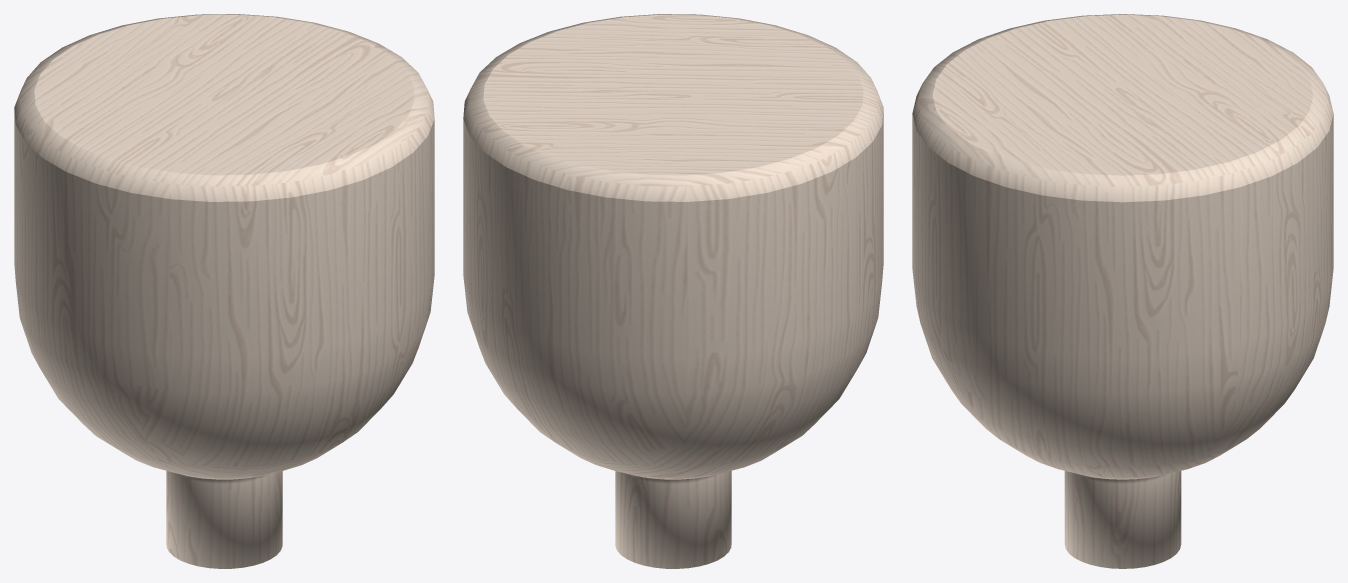
File: blockhead 2.fbx
3 renders of one model, left to right at view 1: azimuth 30°, elevation 25°; view 2: azimuth 150°, elevation 25°; view 3: azimuth 270°, elevation 25°, orthographic.
Parts seen in each view (by area): view 1: Head; view 2: Head; view 3: Head.
Boxes of the visible parts, x1,y1,x2,y2 form: Head: (14,14,434,568); Head: (463,14,883,568); Head: (912,14,1333,568).
Size of the model in its own units: 105 by 124 by 105.
